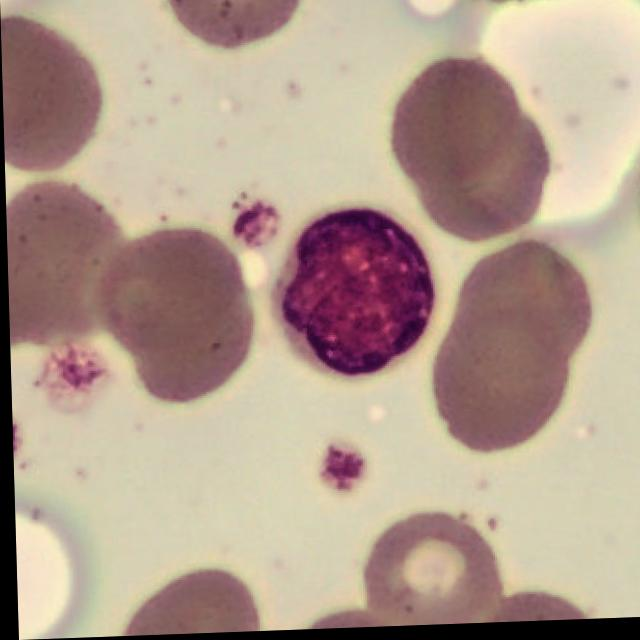Linfocito: (273, 209, 433, 379)
